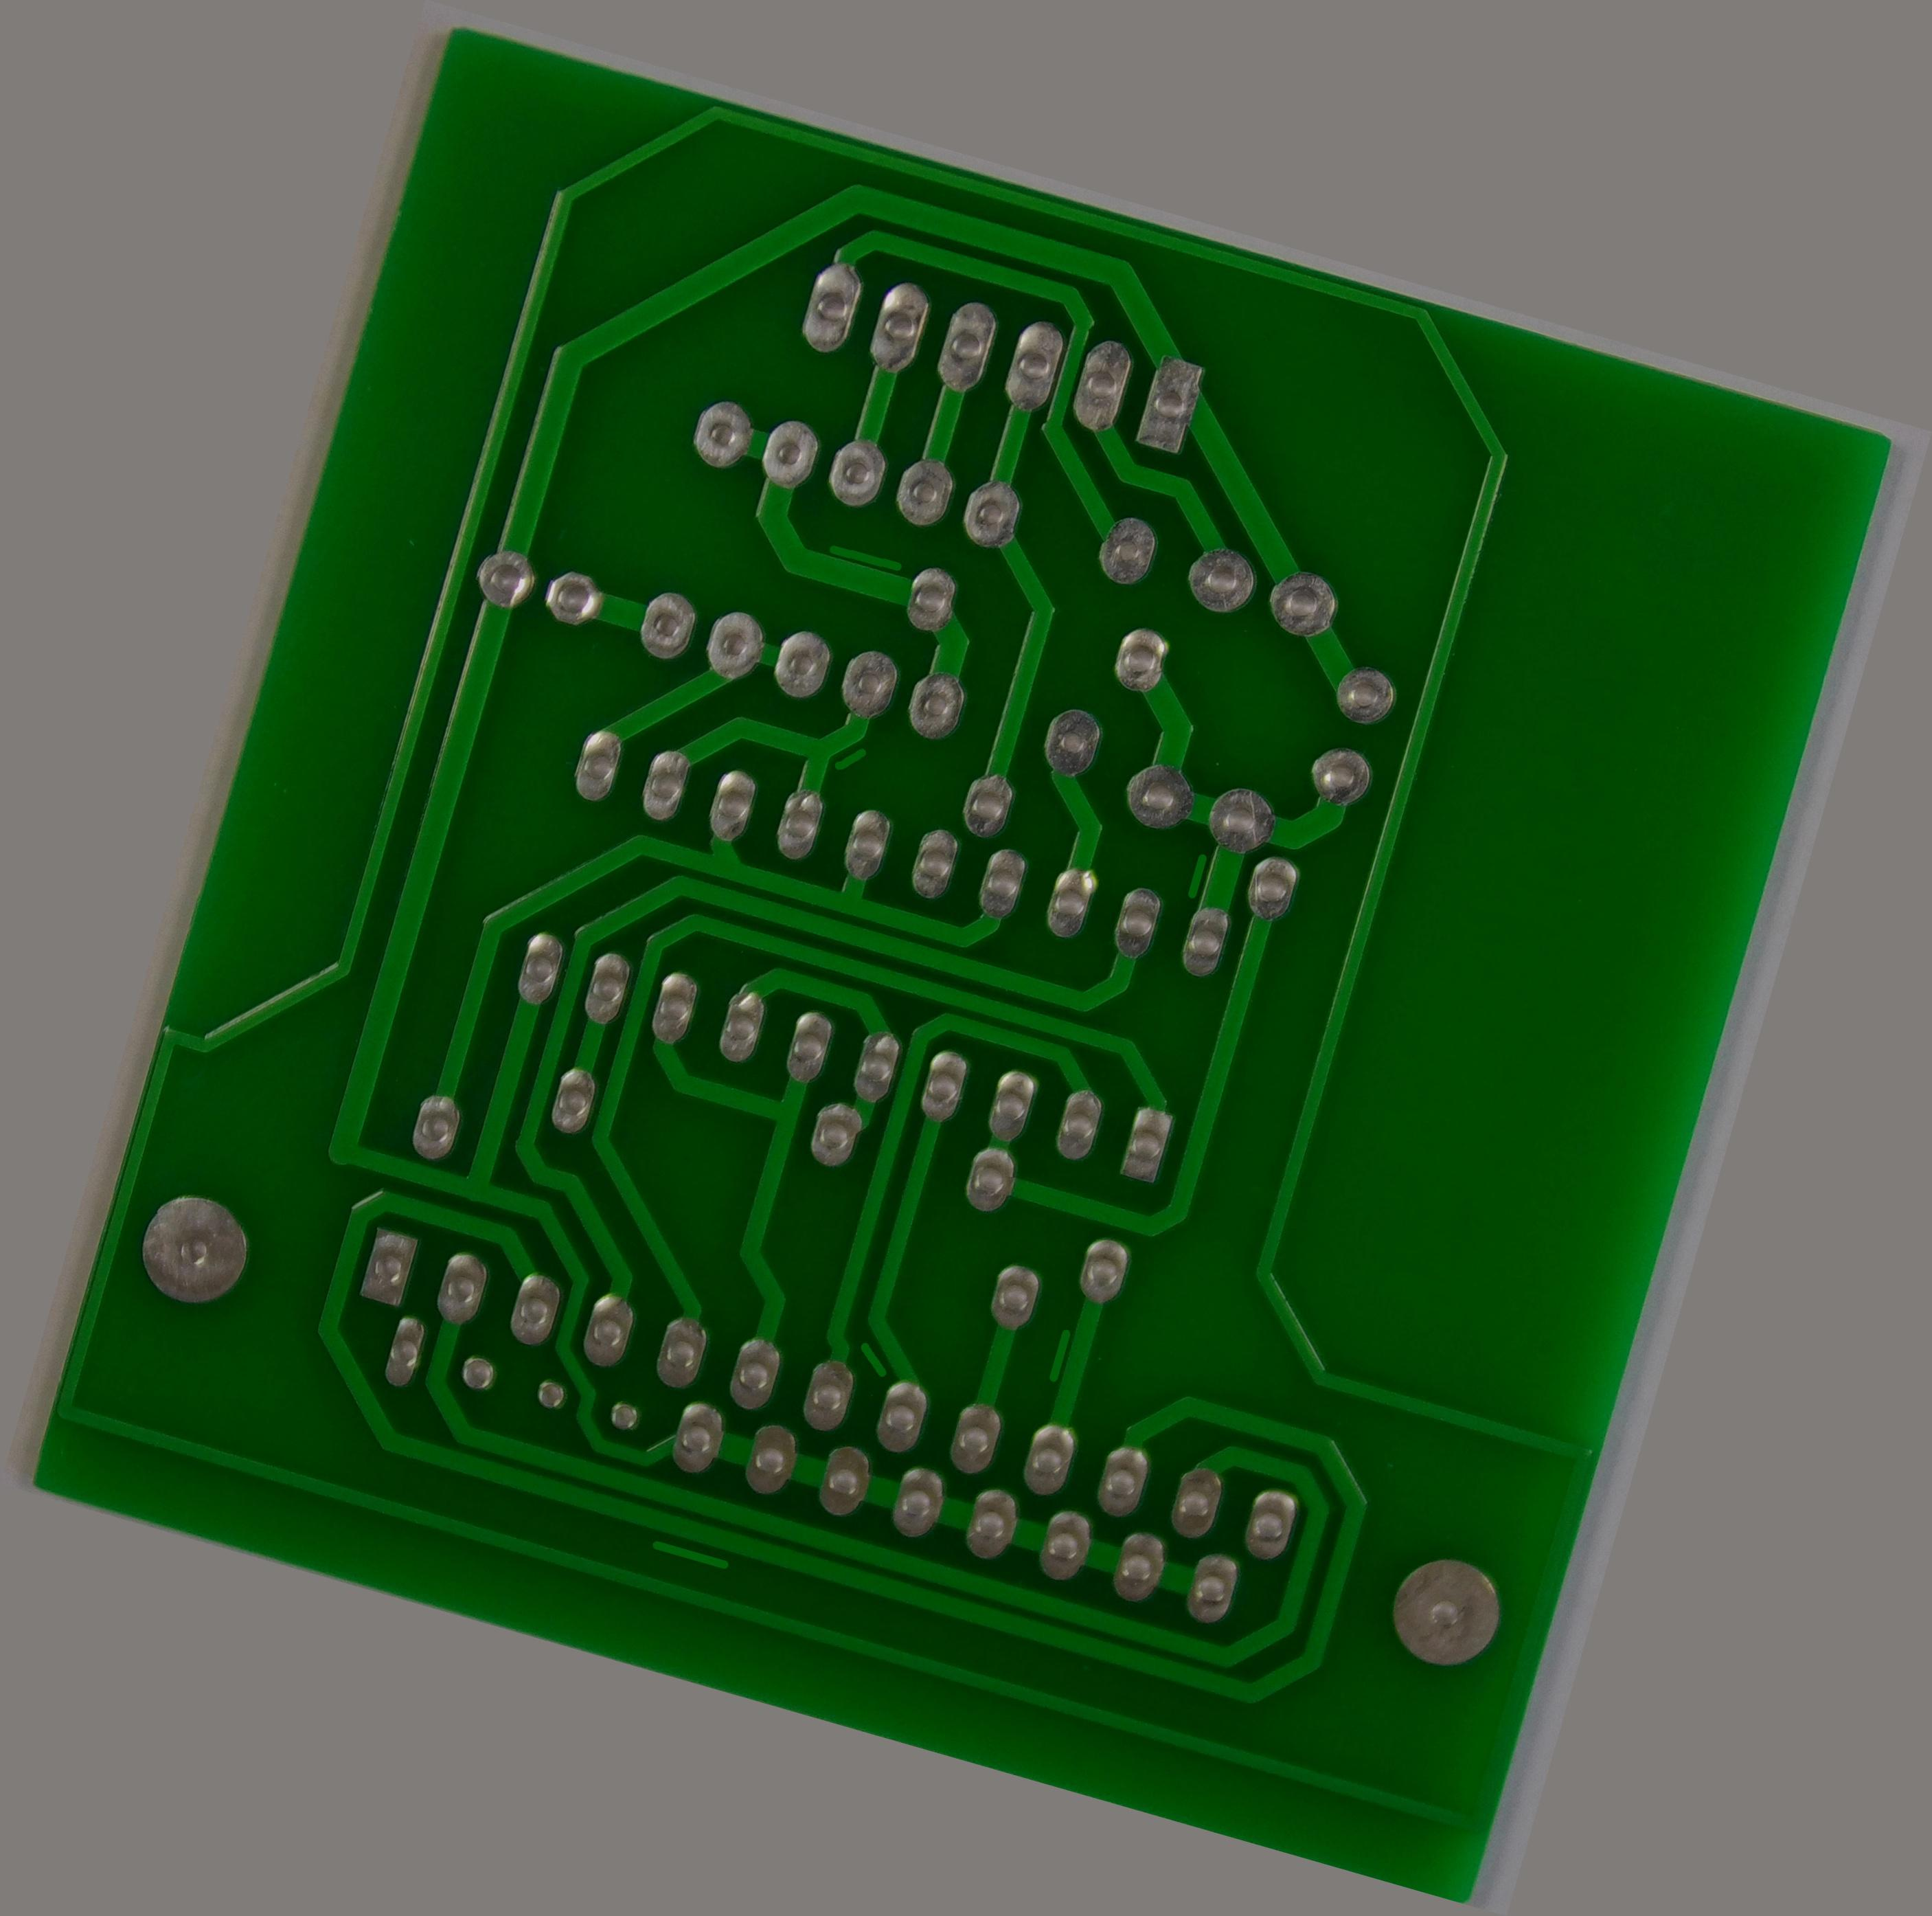spurious_copper: (637, 1525, 742, 1591), (818, 530, 911, 586), (1030, 1318, 1088, 1395), (835, 1325, 904, 1390), (1172, 839, 1223, 907), (825, 733, 877, 788)
